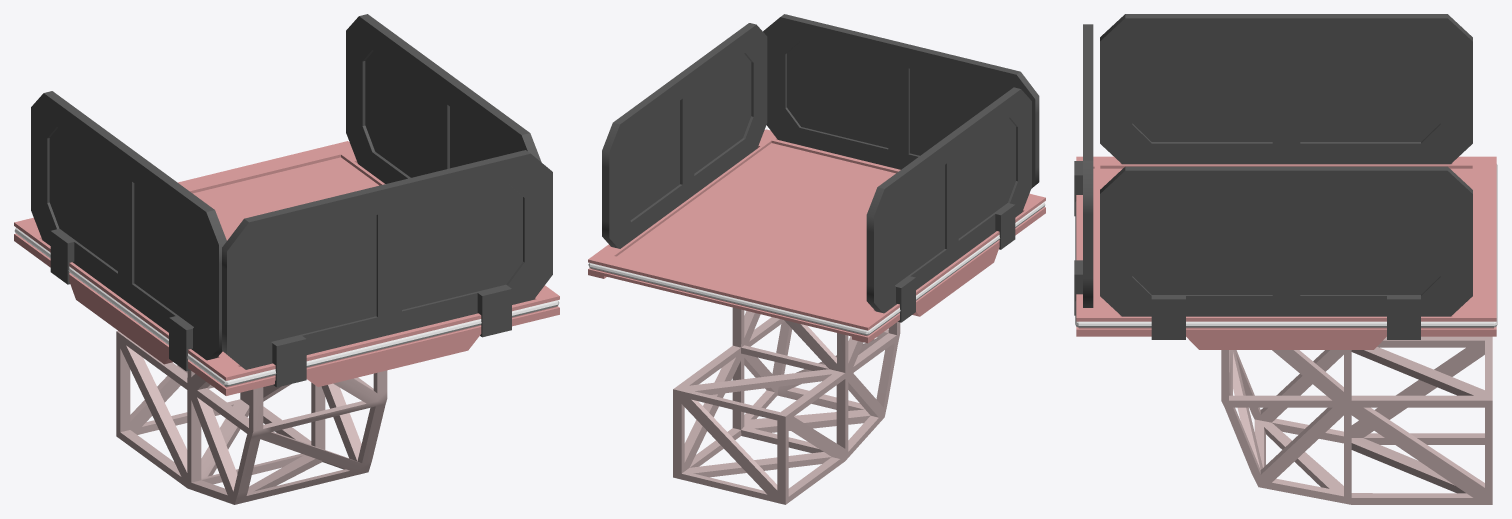
Rendered from Scaffolding.fbx.
3 views of the same model, side by side, from view 1: azimuth 30°, elevation 25°; view 2: azimuth 150°, elevation 25°; view 3: azimuth 270°, elevation 25° (orthographic). The views are drawn at different scales.
Visible parts, largest first — view 1: Barrera3, Barrera, Floor, Viga, Barrera2; view 2: Floor, Barrera3, Viga, Barrera, Barrera2; view 3: Barrera2, Barrera, Viga, Floor, Barrera3.
Part boxes in pixels (x1,y1,x2,y2): Barrera3: (222, 150, 552, 387); Barrera: (31, 91, 226, 371); Floor: (14, 141, 559, 395); Viga: (116, 331, 387, 504); Barrera2: (346, 14, 541, 183); Floor: (588, 129, 1045, 343); Barrera3: (763, 14, 1039, 188); Viga: (673, 307, 900, 504); Barrera: (866, 87, 1031, 322); Barrera2: (602, 23, 767, 248); Barrera2: (1100, 166, 1472, 339); Barrera: (1100, 14, 1472, 164); Viga: (1221, 336, 1492, 504); Floor: (1075, 156, 1497, 349); Barrera3: (1074, 24, 1093, 315).
Bounding box in the file's own units: 101 × 110 × 111.
